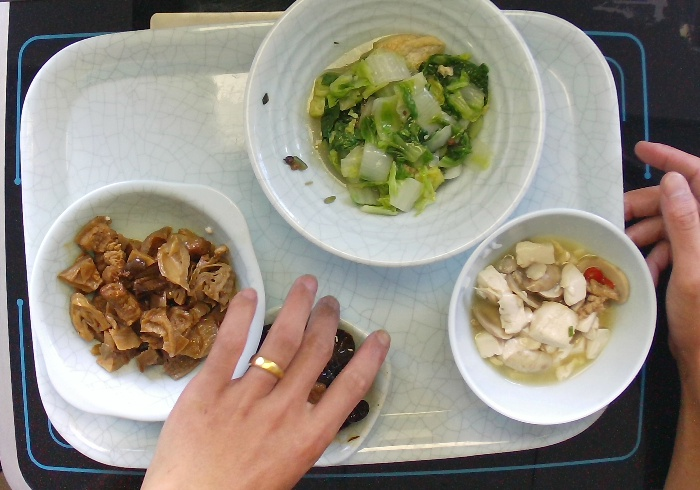JYsf-Fan_Wan: (444, 205, 657, 428)
JYsf-Shuang_Er_Wan: (28, 178, 270, 426)
JYsf-Si_Fang_Die: (230, 303, 389, 472)
JYsf-Xiao_Tang_Wan: (244, 1, 545, 269)
